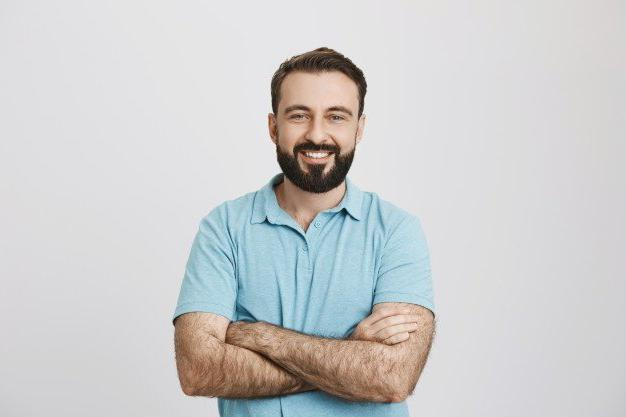Sober: (279, 77, 356, 183)
